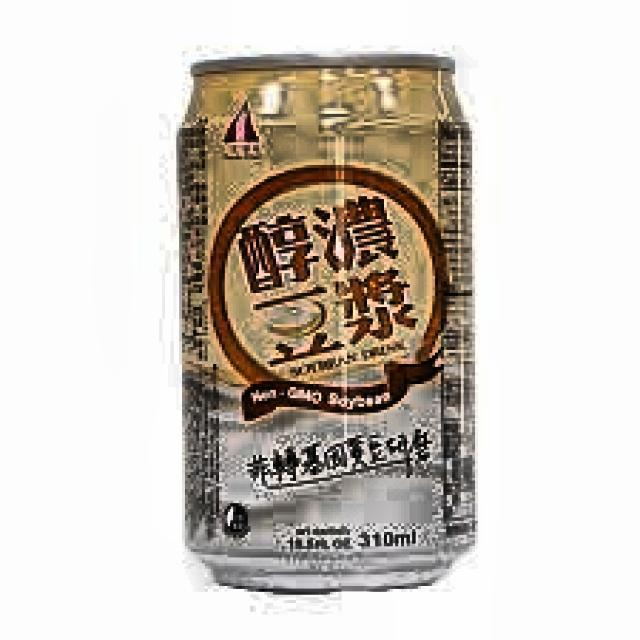Aluminum Can: (170, 42, 492, 608)
